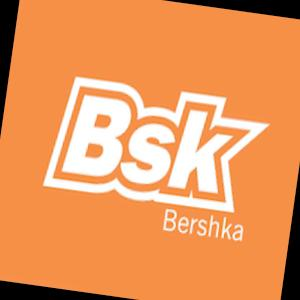bershka: (38, 70, 271, 250)
